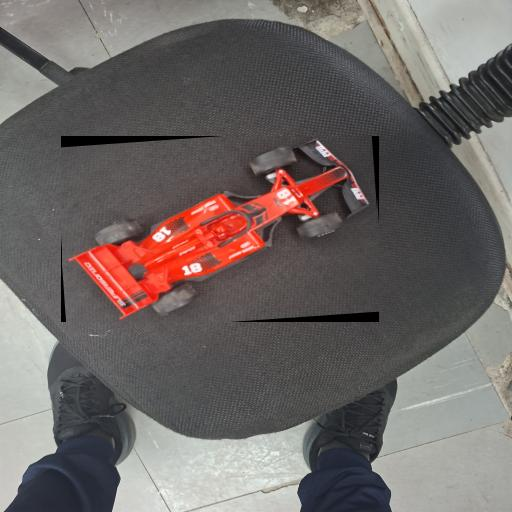carro: (63, 136, 377, 322)
